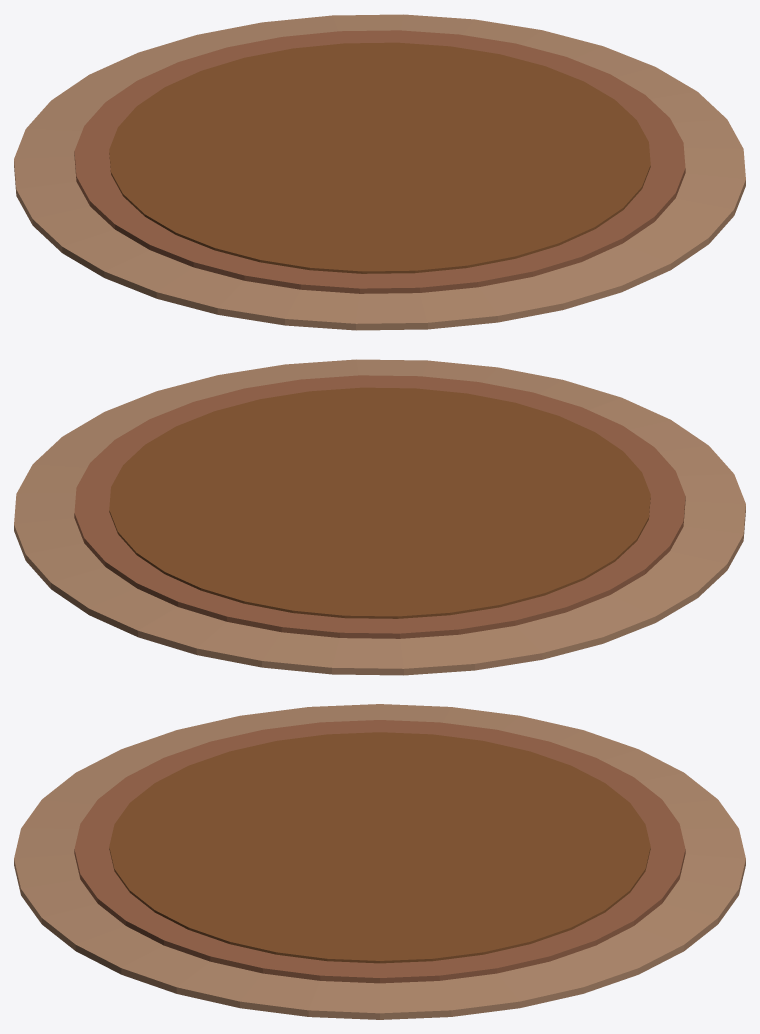
The picture shows the model from 3 angles, top to bottom: view 1: azimuth 30°, elevation 25°; view 2: azimuth 150°, elevation 25°; view 3: azimuth 270°, elevation 25°; orthographic projection.
Visible parts, largest first — view 1: platform-pusck; view 2: platform-pusck; view 3: platform-pusck.
Boxes of the visible parts, x1,y1,x2,y2 form: platform-pusck: [14, 14, 745, 330]; platform-pusck: [14, 359, 745, 675]; platform-pusck: [14, 704, 745, 1019].
Bounding box in the file's own units: 20 × 0.5642 × 20.
